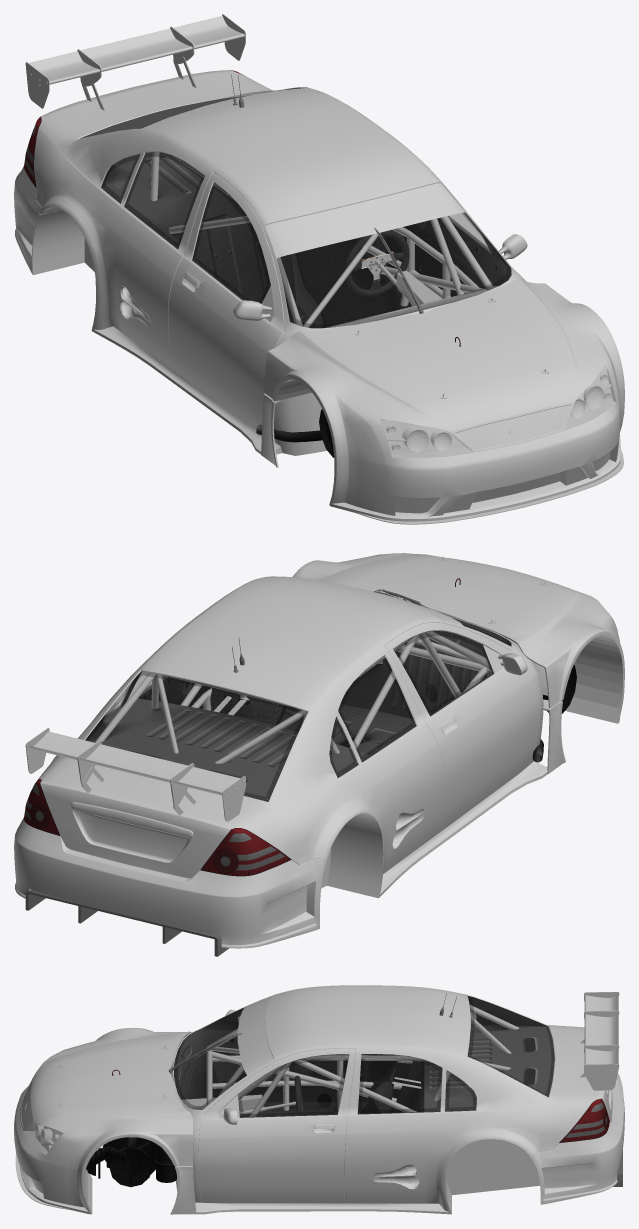
File: Mond.FBX
The picture shows the model from 3 angles, top to bottom: view 1: azimuth 30°, elevation 25°; view 2: azimuth 150°, elevation 25°; view 3: azimuth 270°, elevation 25°; orthographic projection. The views are drawn at different scales.
Parts seen in each view (by area): view 1: Mond_Carbody, Mond_Hood, Mond_Wing, TRV6_Wheel; view 2: Mond_Carbody, Mond_Hood, Mond_Wing; view 3: Mond_Carbody, Mond_Hood, Mond_Wing, Susp_L.
Boxes of the visible parts, x1,y1,x2,y2 form: Mond_Carbody: (14, 70, 527, 467); Mond_Hood: (263, 277, 624, 524); Mond_Wing: (25, 14, 245, 110); TRV6_Wheel: (344, 230, 409, 296); Mond_Carbody: (14, 576, 565, 956); Mond_Hood: (292, 553, 624, 723); Mond_Wing: (25, 728, 245, 821); Mond_Carbody: (86, 985, 624, 1214); Mond_Hood: (14, 1028, 192, 1214); Mond_Wing: (580, 992, 619, 1090); Susp_L: (109, 1137, 152, 1187).
Size of what is drawn, in the model's own units: 188 by 138 by 454.
